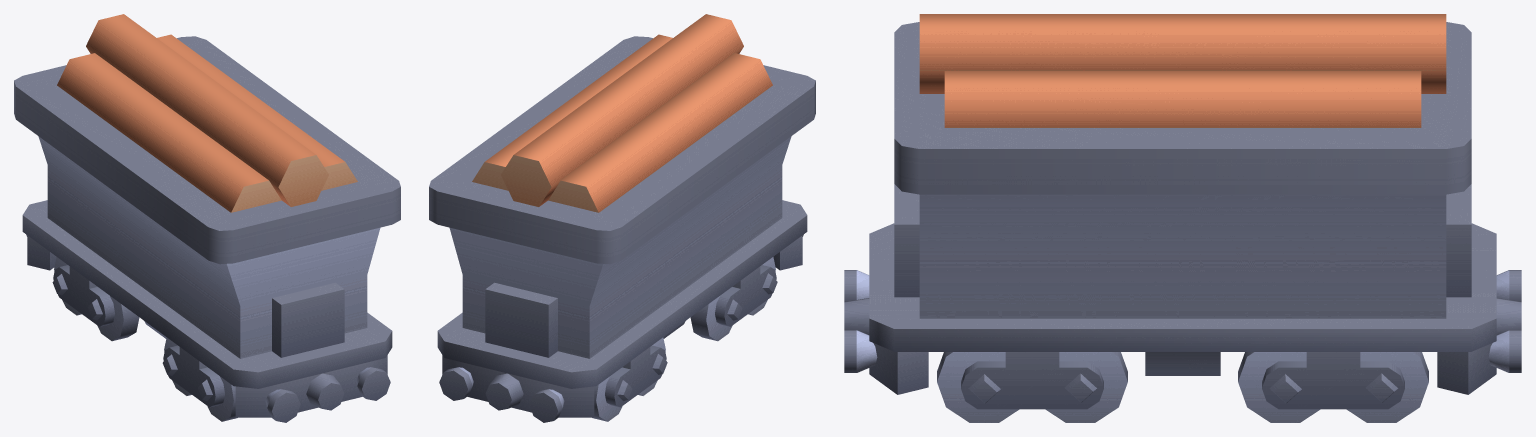
The model's file is train-carriage-wood.glb.
3 views of the same model, side by side, from view 1: azimuth 30°, elevation 25°; view 2: azimuth 150°, elevation 25°; view 3: azimuth 270°, elevation 25° (orthographic). The views are drawn at different scales.
Parts seen in each view (by area): view 1: train-carriage-wood, cargo, wheels-back, wheels-front; view 2: train-carriage-wood, cargo, wheels-front, wheels-back; view 3: train-carriage-wood, cargo, wheels-back, wheels-front.
Boxes of the visible parts, x1=… form: train-carriage-wood: x1=14, y1=36, x2=400, y2=422; cargo: x1=57, y1=14, x2=357, y2=212; wheels-back: x1=52, y1=257, x2=139, y2=341; wheels-front: x1=162, y1=337, x2=237, y2=421; train-carriage-wood: x1=429, y1=36, x2=815, y2=422; cargo: x1=472, y1=14, x2=772, y2=212; wheels-front: x1=690, y1=257, x2=777, y2=341; wheels-back: x1=592, y1=337, x2=667, y2=421; train-carriage-wood: x1=844, y1=22, x2=1521, y2=394; cargo: x1=919, y1=14, x2=1446, y2=127; wheels-back: x1=1238, y1=352, x2=1428, y2=422; wheels-front: x1=937, y1=352, x2=1127, y2=422.
Bounding box in the file's own units: 1.2 × 1.57 × 2.7.
1 material, 1 textured.
